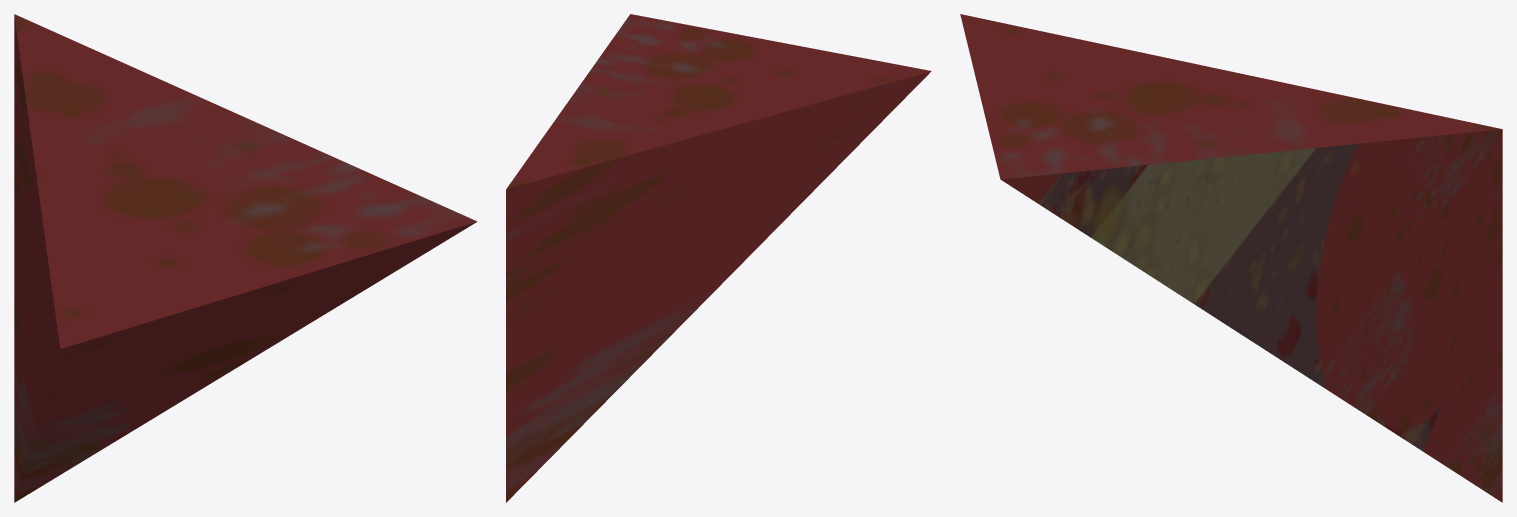
File: ishi_03_10_5.fbx
3 renders of one model, left to right at view 1: azimuth 30°, elevation 25°; view 2: azimuth 150°, elevation 25°; view 3: azimuth 270°, elevation 25°, orthographic. The views are drawn at different scales.
Parts seen in each view (by area): view 1: polySurface55; view 2: polySurface55; view 3: polySurface55.
Boxes of the visible parts, x1=… form: polySurface55: x1=14, y1=14, x2=477, y2=502; polySurface55: x1=506, y1=14, x2=931, y2=502; polySurface55: x1=960, y1=14, x2=1502, y2=502.
Bounding box in the file's own units: 4.88 × 5.14 × 6.76.
1 material, 1 textured.
